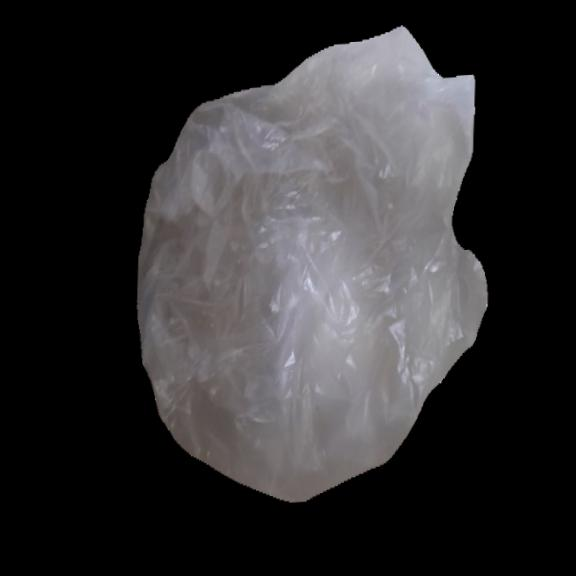Plastik: (125, 10, 497, 523)
